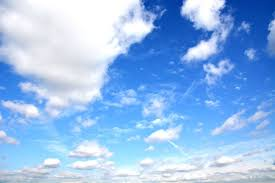sky: (1, 1, 275, 182)
